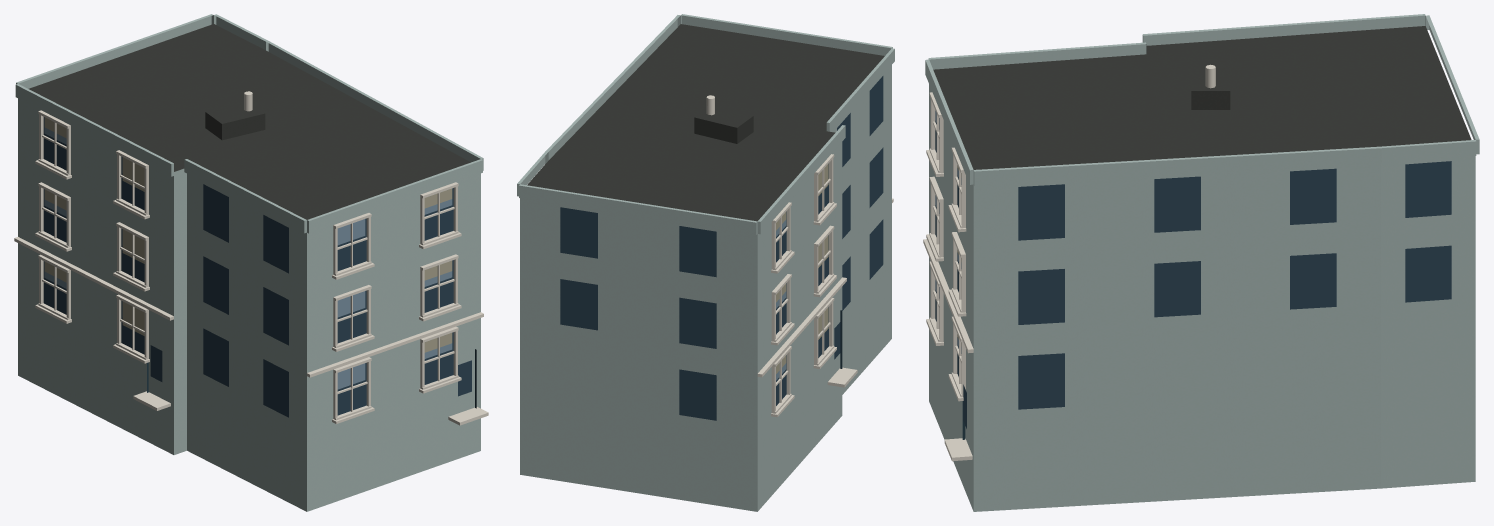
The picture shows the model from 3 angles, left to right: view 1: azimuth 30°, elevation 25°; view 2: azimuth 150°, elevation 25°; view 3: azimuth 270°, elevation 25°; orthographic projection. The views are drawn at different scales.
Parts seen in each view (by area): view 1: Footprint 0 / surface 2, Footprint 0 / surface 1, Cornices and window frames, Inset glazing, Facade bay volumes, Interior blind variation, Sky reflection panels, Inferred rooftop service enclosure / surface 5, Inferred rooftop service enclosure / surface 3; view 2: Footprint 0 / surface 2, Footprint 0 / surface 1, Inset glazing, Facade bay volumes, Cornices and window frames, Interior blind variation, Inferred rooftop service enclosure / surface 6, Inferred rooftop service enclosure / surface 3; view 3: Footprint 0 / surface 2, Footprint 0 / surface 1, Inset glazing, Facade bay volumes, Cornices and window frames, Inferred rooftop service enclosure / surface 3, Inferred rooftop service enclosure / surface 1.
Part boxes in pixels (bbox=[...]): Footprint 0 / surface 2: bbox=[18, 98, 480, 511]; Footprint 0 / surface 1: bbox=[29, 24, 470, 219]; Cornices and window frames: bbox=[14, 110, 488, 425]; Inset glazing: bbox=[43, 117, 471, 417]; Facade bay volumes: bbox=[15, 14, 483, 233]; Interior blind variation: bbox=[44, 117, 452, 352]; Sky reflection panels: bbox=[44, 117, 452, 389]; Inferred rooftop service enclosure / surface 5: bbox=[222, 113, 265, 140]; Inferred rooftop service enclosure / surface 3: bbox=[206, 102, 264, 123]; Footprint 0 / surface 2: bbox=[520, 65, 891, 511]; Footprint 0 / surface 1: bbox=[527, 24, 884, 221]; Inset glazing: bbox=[560, 76, 883, 420]; Facade bay volumes: bbox=[517, 14, 894, 234]; Cornices and window frames: bbox=[757, 154, 893, 417]; Interior blind variation: bbox=[776, 164, 828, 373]; Inferred rooftop service enclosure / surface 6: bbox=[694, 117, 737, 143]; Inferred rooftop service enclosure / surface 3: bbox=[694, 106, 753, 127]; Footprint 0 / surface 2: bbox=[929, 84, 1475, 511]; Footprint 0 / surface 1: bbox=[933, 26, 1471, 169]; Inset glazing: bbox=[935, 120, 1451, 428]; Facade bay volumes: bbox=[925, 14, 1479, 186]; Cornices and window frames: bbox=[923, 92, 973, 461]; Inferred rooftop service enclosure / surface 3: bbox=[1191, 66, 1230, 90]; Inferred rooftop service enclosure / surface 1: bbox=[1191, 91, 1230, 109].
Size of the model in its own units: 11.56 by 12.59 by 17.16.
